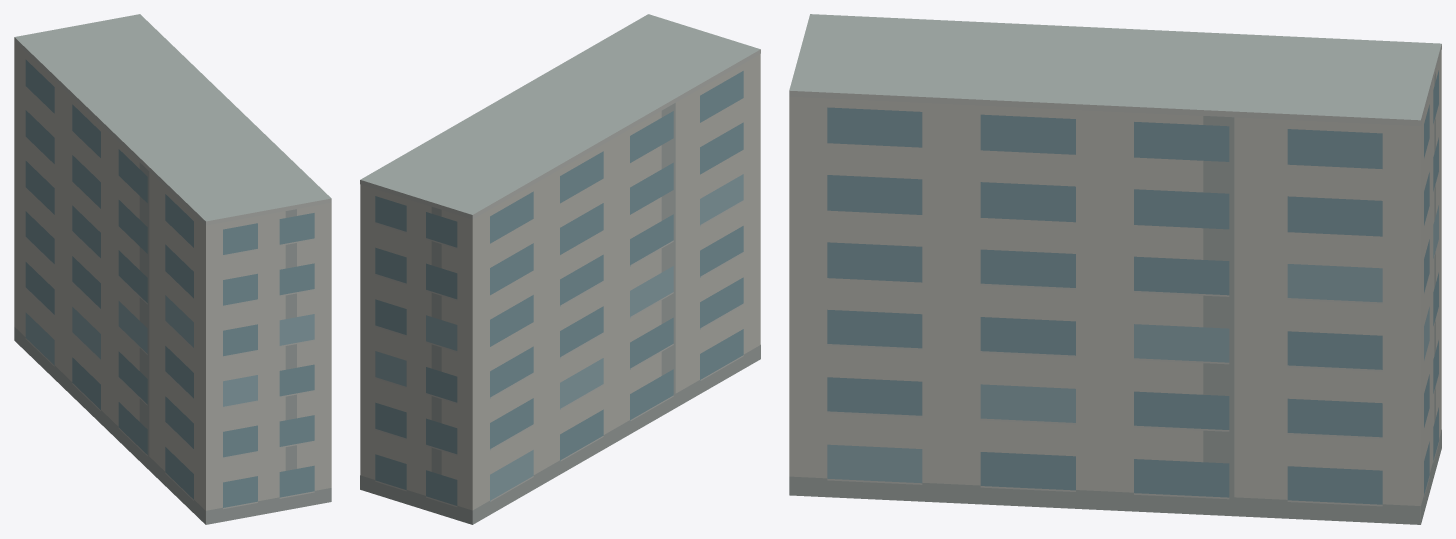
Rendered from survey-upis-32572251.glb.
3 views of the same model, side by side, from view 1: azimuth 30°, elevation 25°; view 2: azimuth 150°, elevation 25°; view 3: azimuth 270°, elevation 25° (orthographic). The views are drawn at different scales.
Parts seen in each view (by area): view 1: survey-upis-32572251.tmp; view 2: survey-upis-32572251.tmp; view 3: survey-upis-32572251.tmp.
Boxes of the visible parts, x1,y1,x2,y2 form: survey-upis-32572251.tmp: (14,14,331,524); survey-upis-32572251.tmp: (360,14,760,524); survey-upis-32572251.tmp: (789,14,1441,524).
Size of the model in its own units: 9.7 by 17.2 by 25.15.
